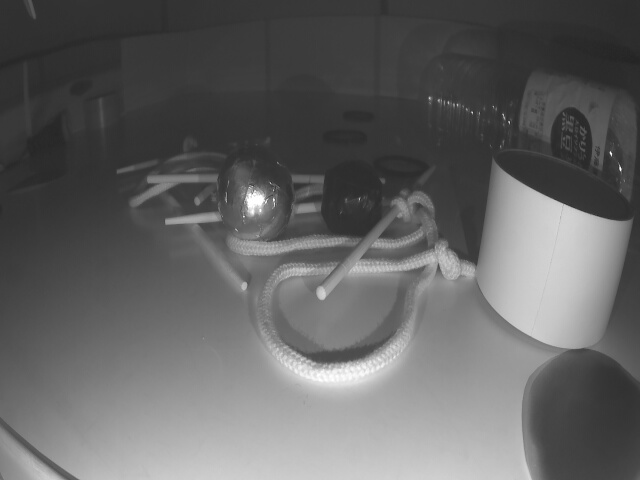Dead: (325, 162, 385, 237)
Live: (214, 146, 296, 246)
